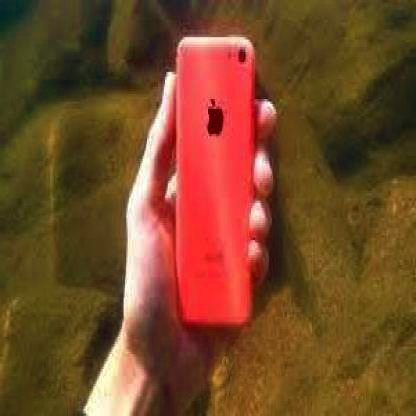cellphone: (174, 32, 256, 337)
